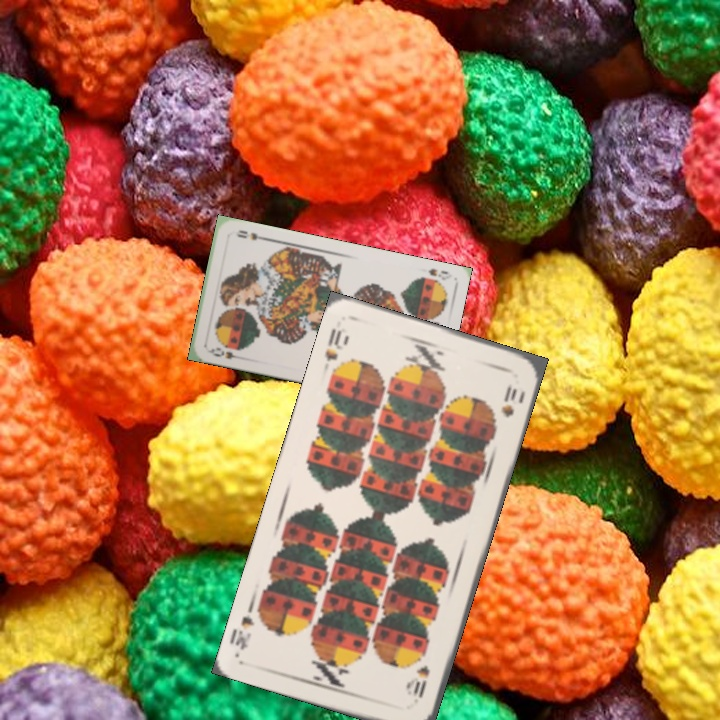S10: (320, 324, 352, 365), (409, 661, 432, 701)
SO: (204, 343, 244, 362), (424, 264, 454, 283)
